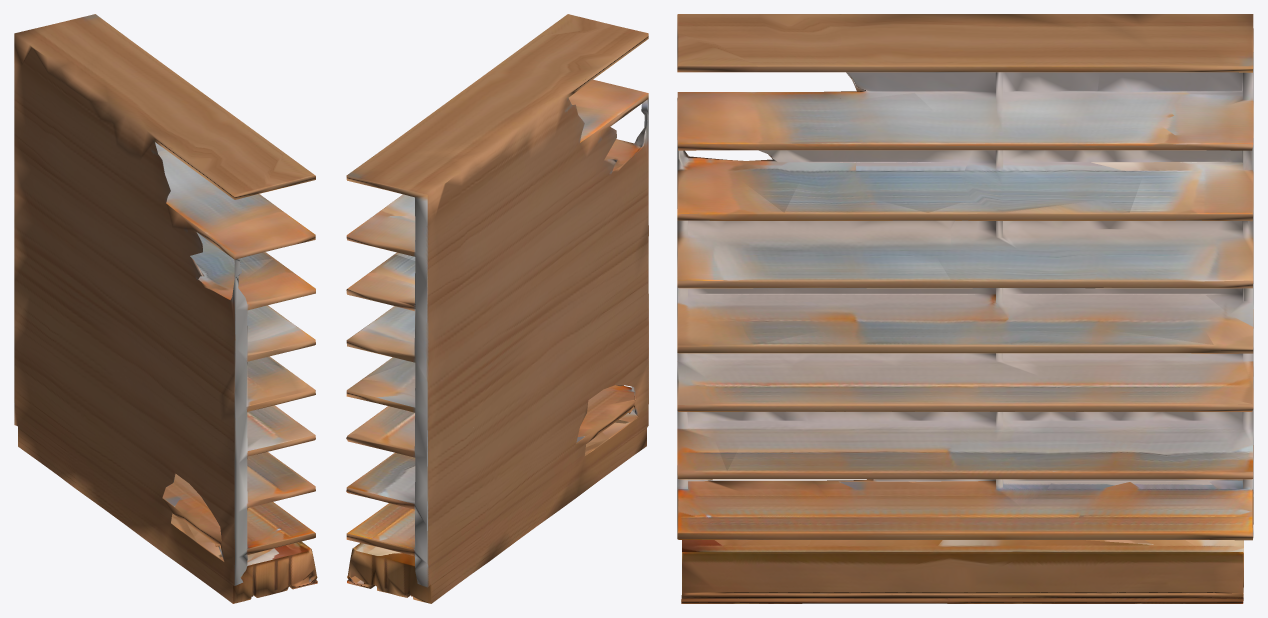
File: shelf-tripo.glb
3 renders of one model, left to right at view 1: azimuth 30°, elevation 25°; view 2: azimuth 150°, elevation 25°; view 3: azimuth 270°, elevation 25°, orthographic. The views are drawn at different scales.
Visible parts, largest first — view 1: cabinet6-tripo-5K; view 2: cabinet6-tripo-5K; view 3: cabinet6-tripo-5K.
Boxes of the visible parts, <box> form: cabinet6-tripo-5K: <box>14,14,317,603</box>; cabinet6-tripo-5K: <box>346,14,648,603</box>; cabinet6-tripo-5K: <box>677,14,1253,603</box>.
Bounding box in the file's own units: 0.2156 × 0.9999 × 0.974.
Materials: 1 (1 with a texture image).
